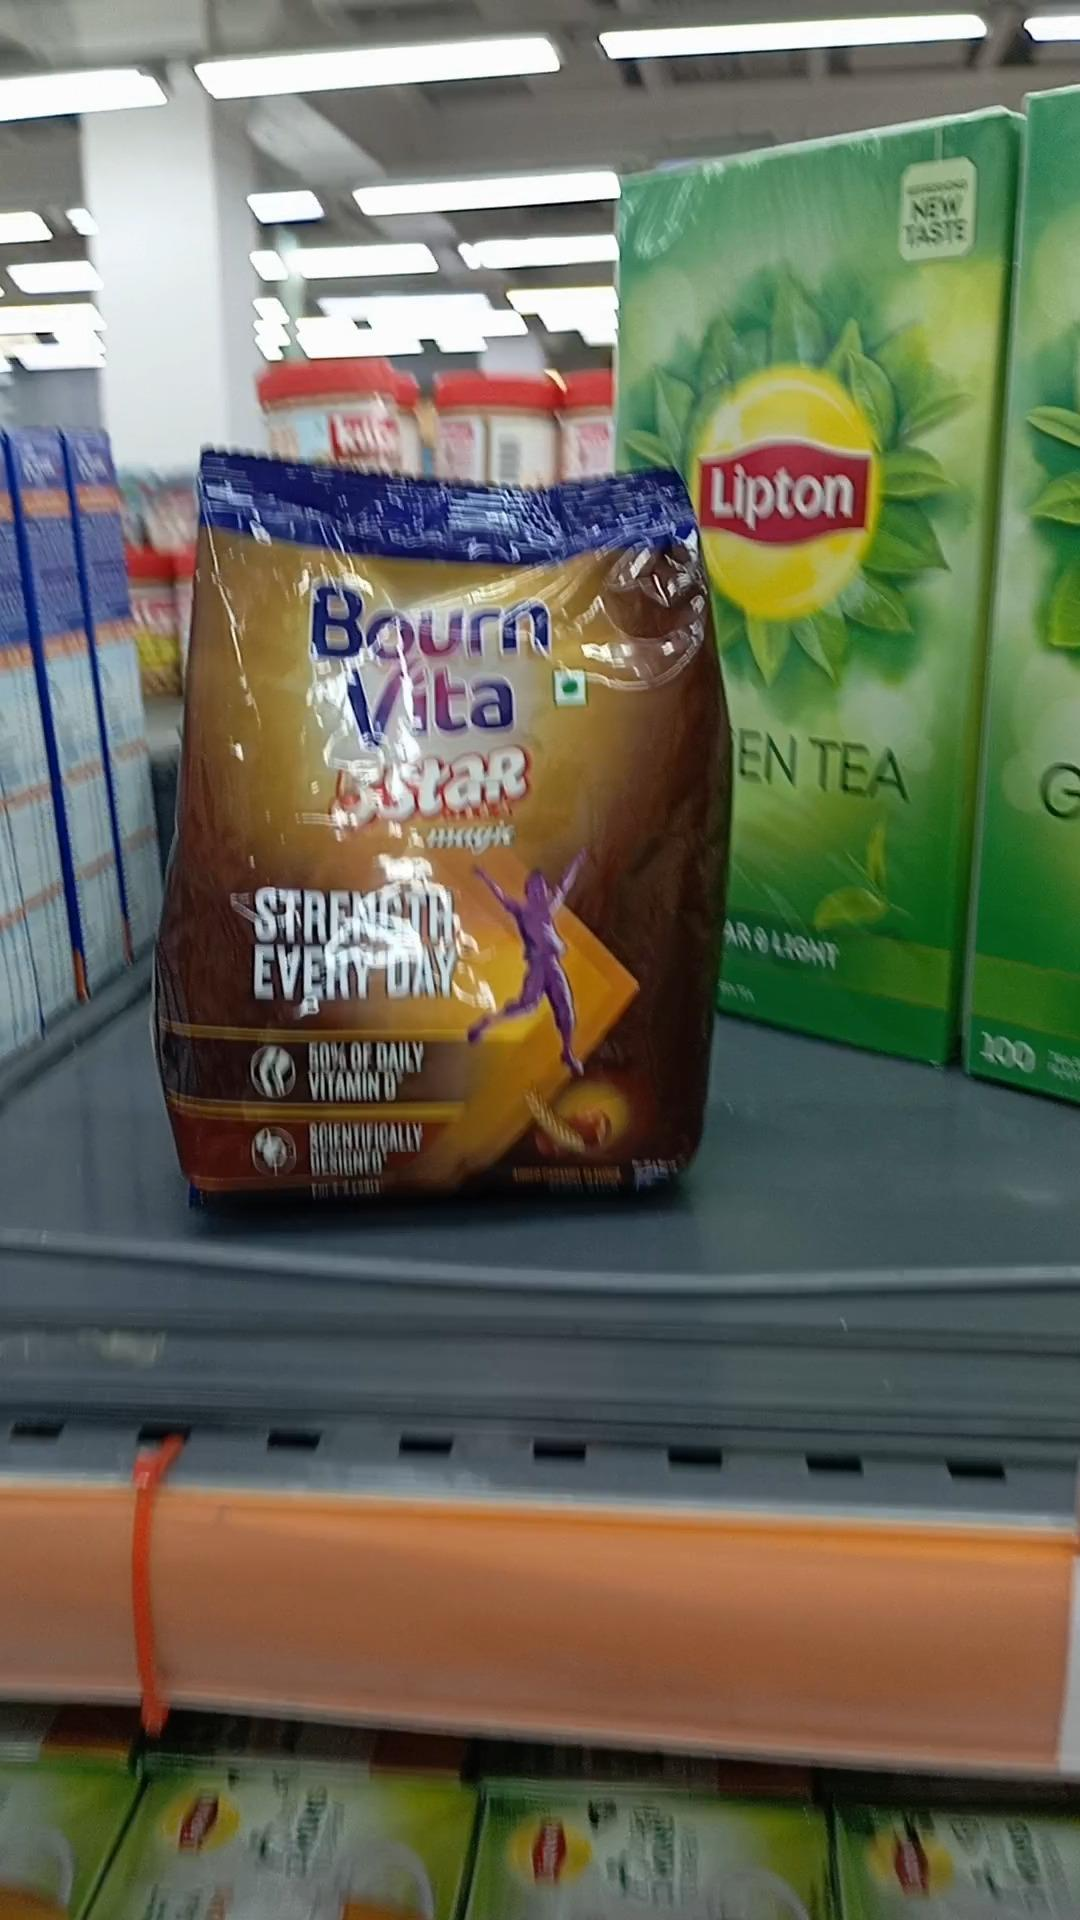BOURN_VITA_FIVE_STAR_MAGIC_500_G_POUCH: (178, 431, 703, 1224)
